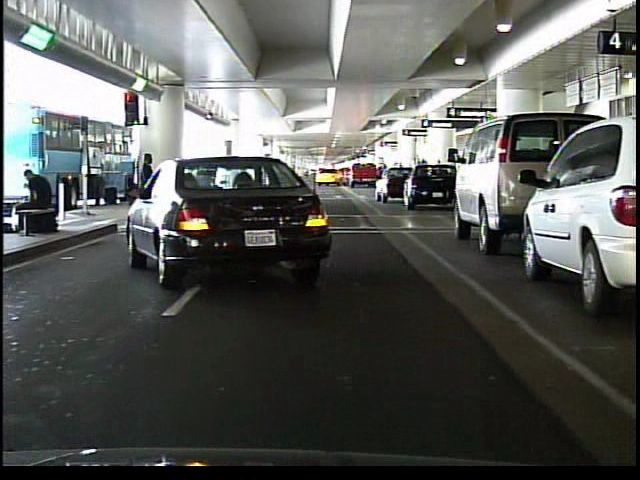person: (18, 165, 56, 241), (128, 150, 157, 231)
